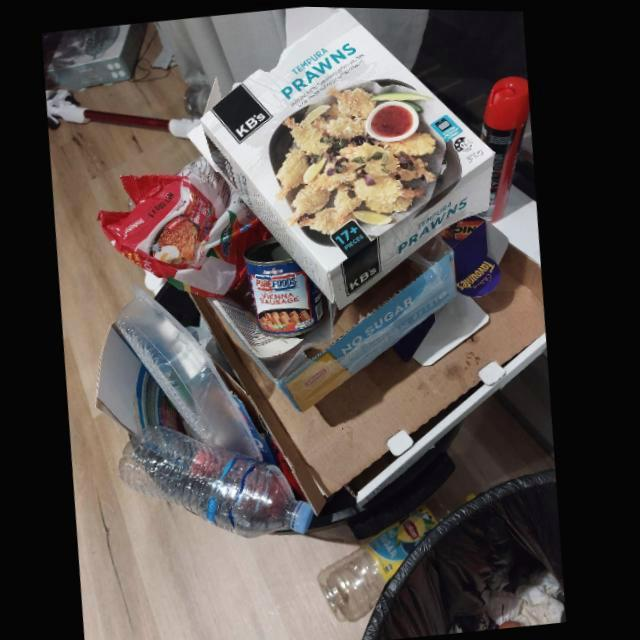aluminum: (245, 236, 332, 337), (478, 74, 531, 221)
cardboard: (169, 5, 497, 309), (197, 242, 550, 512)
food_wrapper: (98, 155, 279, 296)
plastic_bottle: (124, 425, 321, 537), (324, 490, 483, 620)
plastic_container: (116, 283, 268, 460)
